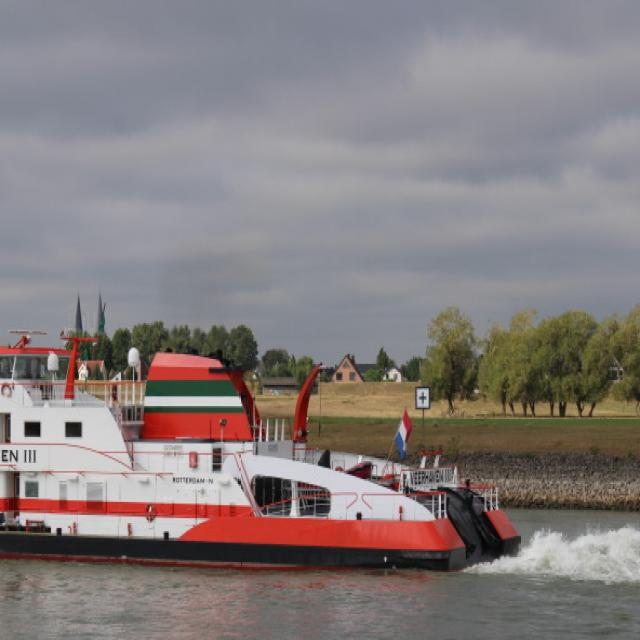tugboat: (1, 311, 526, 587)
